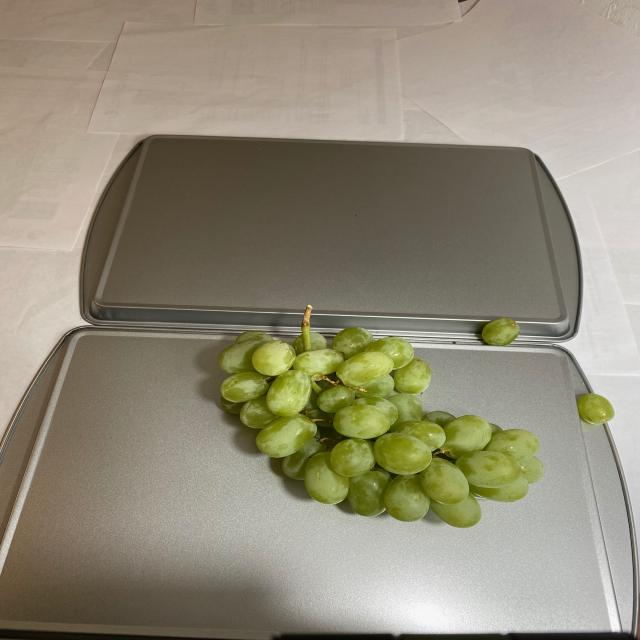grapes: (178, 313, 544, 531), (572, 392, 616, 430)
